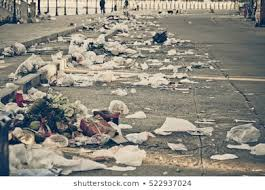garbage: (1, 100, 103, 175), (63, 108, 157, 169), (59, 40, 140, 85), (129, 59, 190, 89), (226, 125, 265, 156), (155, 114, 196, 137)
